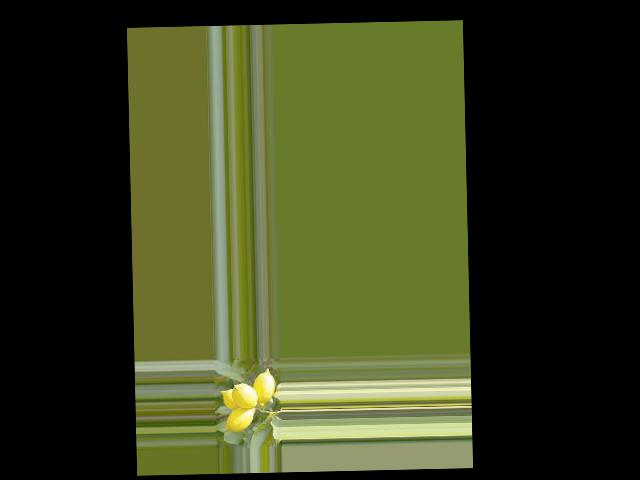lemon: (216, 383, 248, 412)
